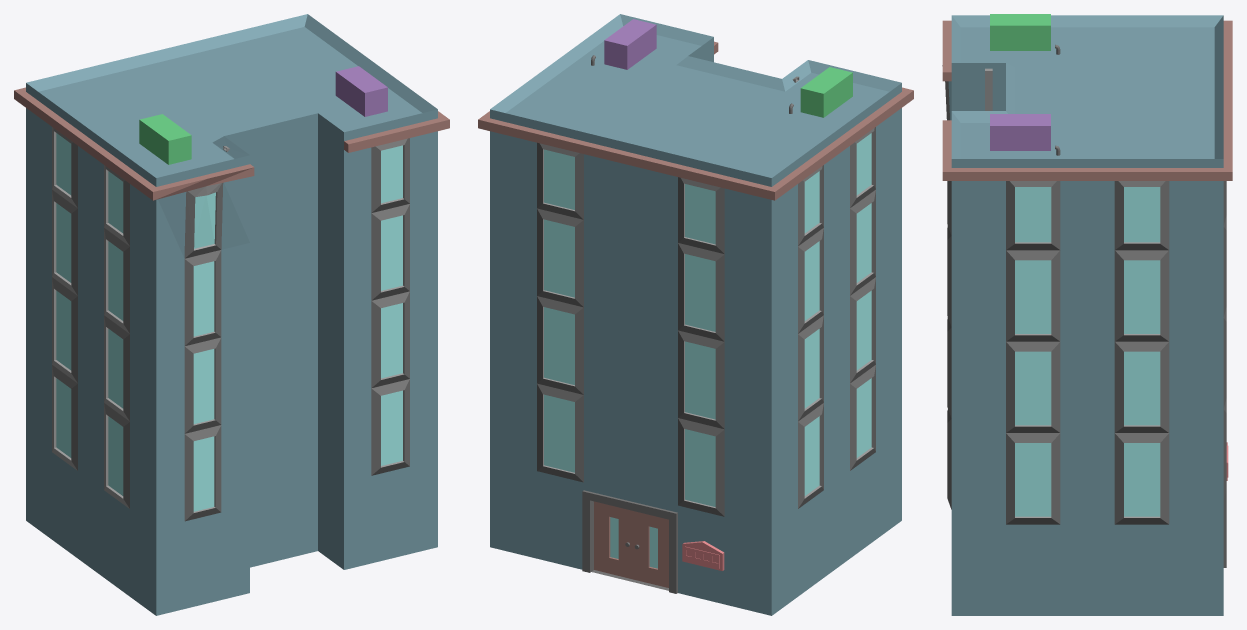
File: Flat.fbx
3 views of the same model, side by side, from view 1: azimuth 30°, elevation 25°; view 2: azimuth 150°, elevation 25°; view 3: azimuth 270°, elevation 25° (orthographic). The views are drawn at different scales.
Visible parts, largest first — view 1: pCube1, pCube5, pCube4; view 2: pCube1, pCube5, pCube4, pCube2; view 3: pCube1, pCube4, pCube5.
Boxes of the visible parts, x1=… form: pCube1: x1=14, y1=14, x2=449, y2=615; pCube5: x1=139, y1=114, x2=191, y2=164; pCube4: x1=335, y1=66, x2=387, y2=116; pCube1: x1=478, y1=14, x2=913, y2=615; pCube5: x1=800, y1=67, x2=852, y2=117; pCube4: x1=604, y1=19, x2=656, y2=69; pCube2: x1=682, y1=541, x2=724, y2=570; pCube1: x1=942, y1=15, x2=1232, y2=615; pCube4: x1=990, y1=114, x2=1050, y2=150; pCube5: x1=990, y1=14, x2=1050, y2=50.
Size of the model in its own units: 3.96 by 5.78 by 3.21.
